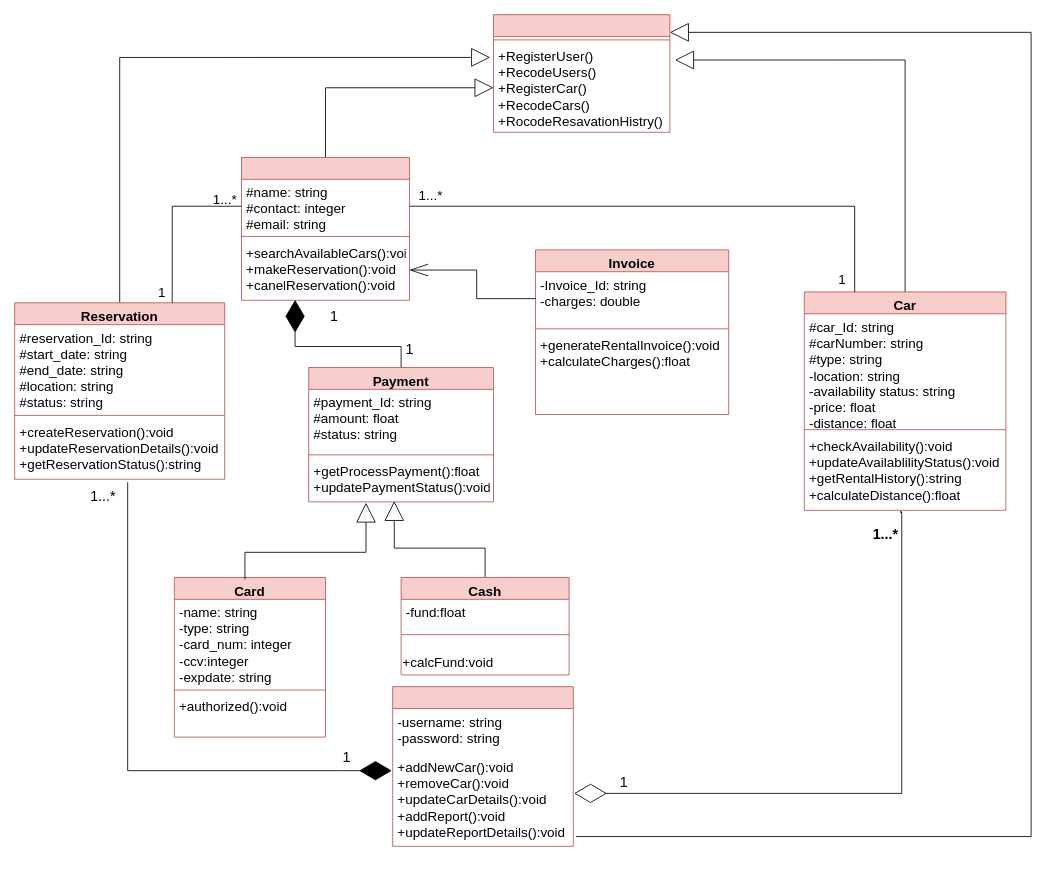
The diagram is 1064 pixels wide and 870 high, and some of its shapes have lost their labels. The shapes that lost their labels are listed below. From the top down, each one's box as (x1, y1, x2, y2) in pixels, then its label:
(493, 14, 670, 132): CarRentalSystem
(241, 157, 410, 300): User
(392, 686, 573, 846): Admin
